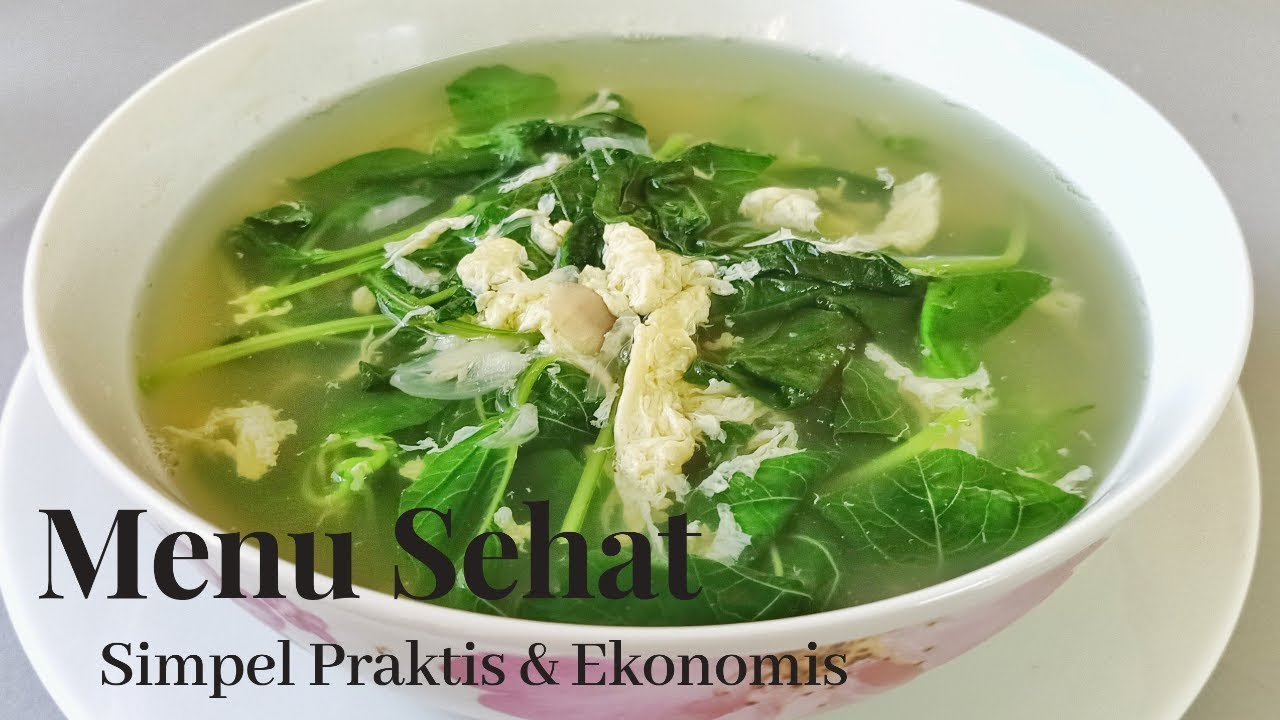Sayur Bayam: (199, 77, 1025, 561)
